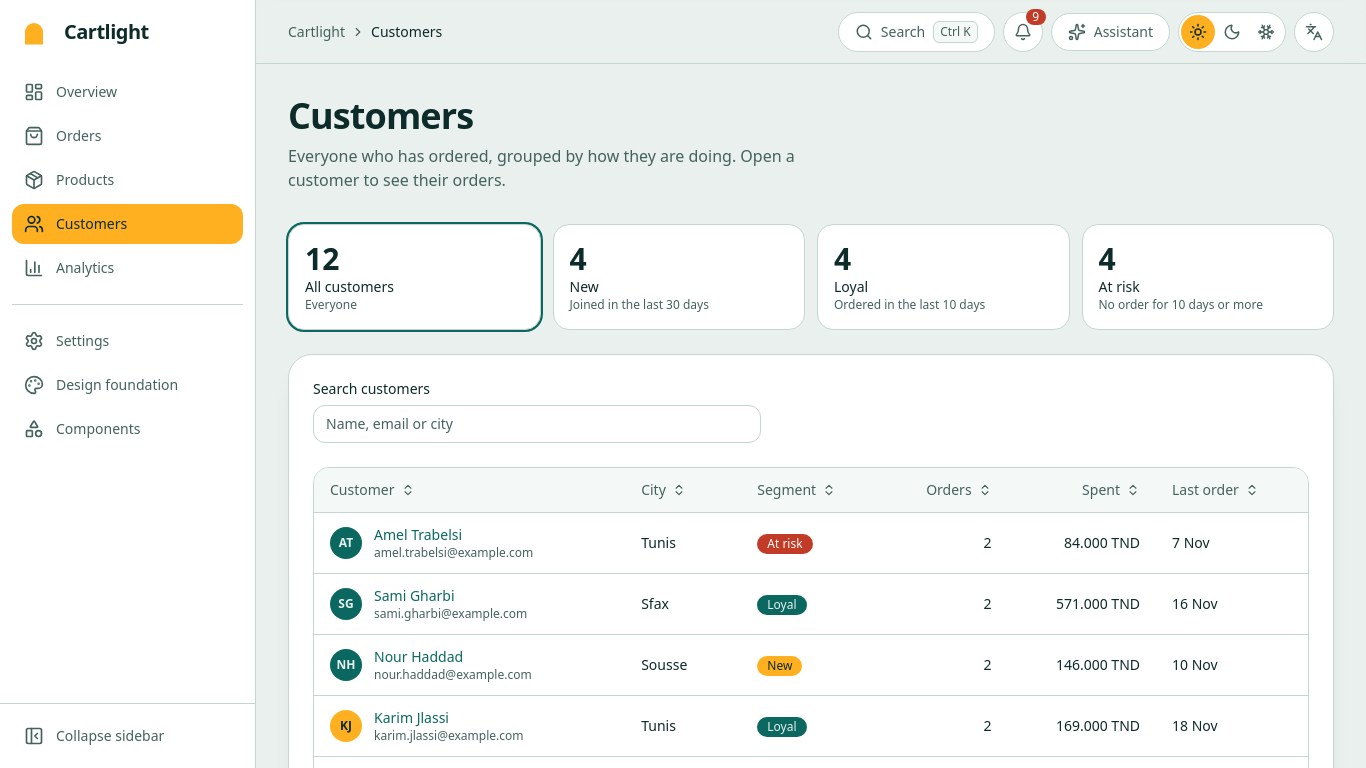
Test: customers page › searches and shows a friendly message when nothing matches
Later steps or results of the test are not shown.
Step 1. Type "amel" into the search field labelled "Search customers" → (537, 424), box [313,405,761,443]
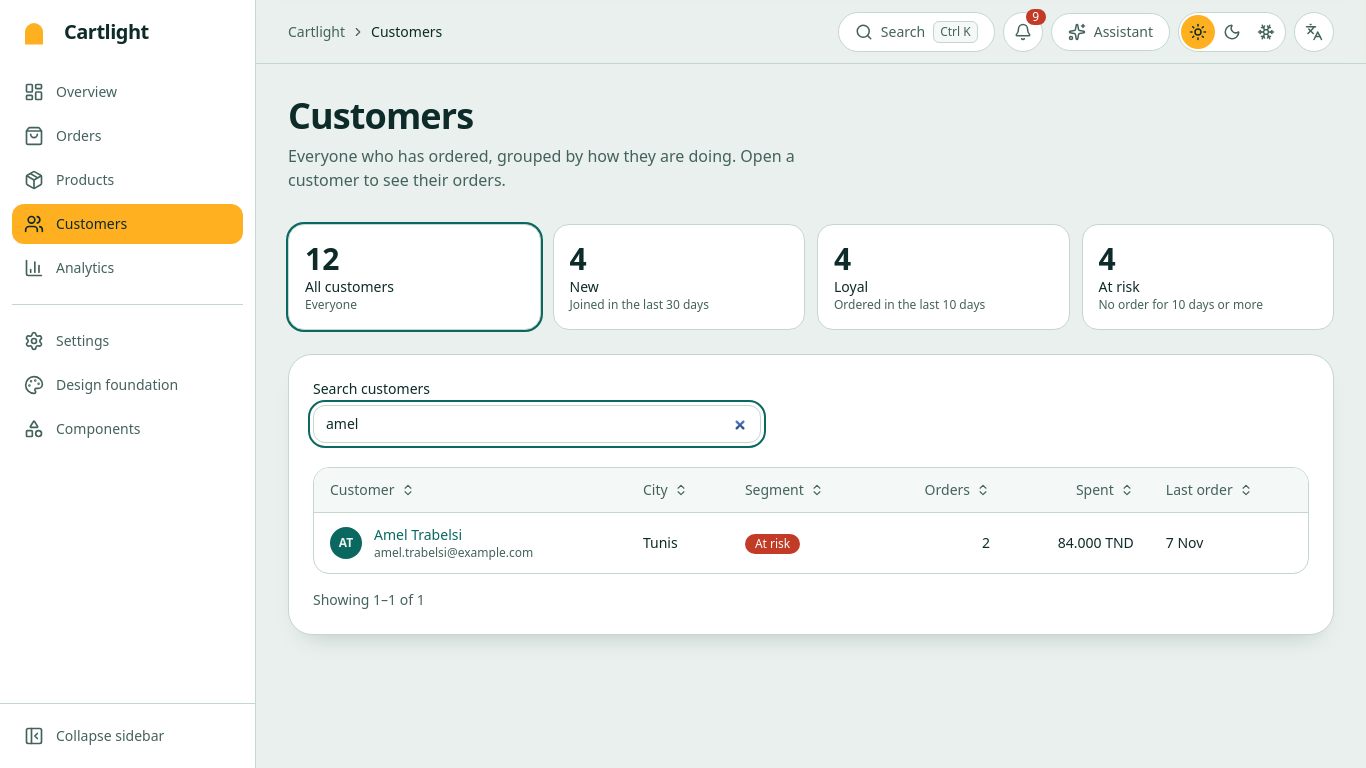
Step 2. Replace the text in the search field labelled "Search customers" with "zzzz" → (537, 424), box [313,405,761,443]
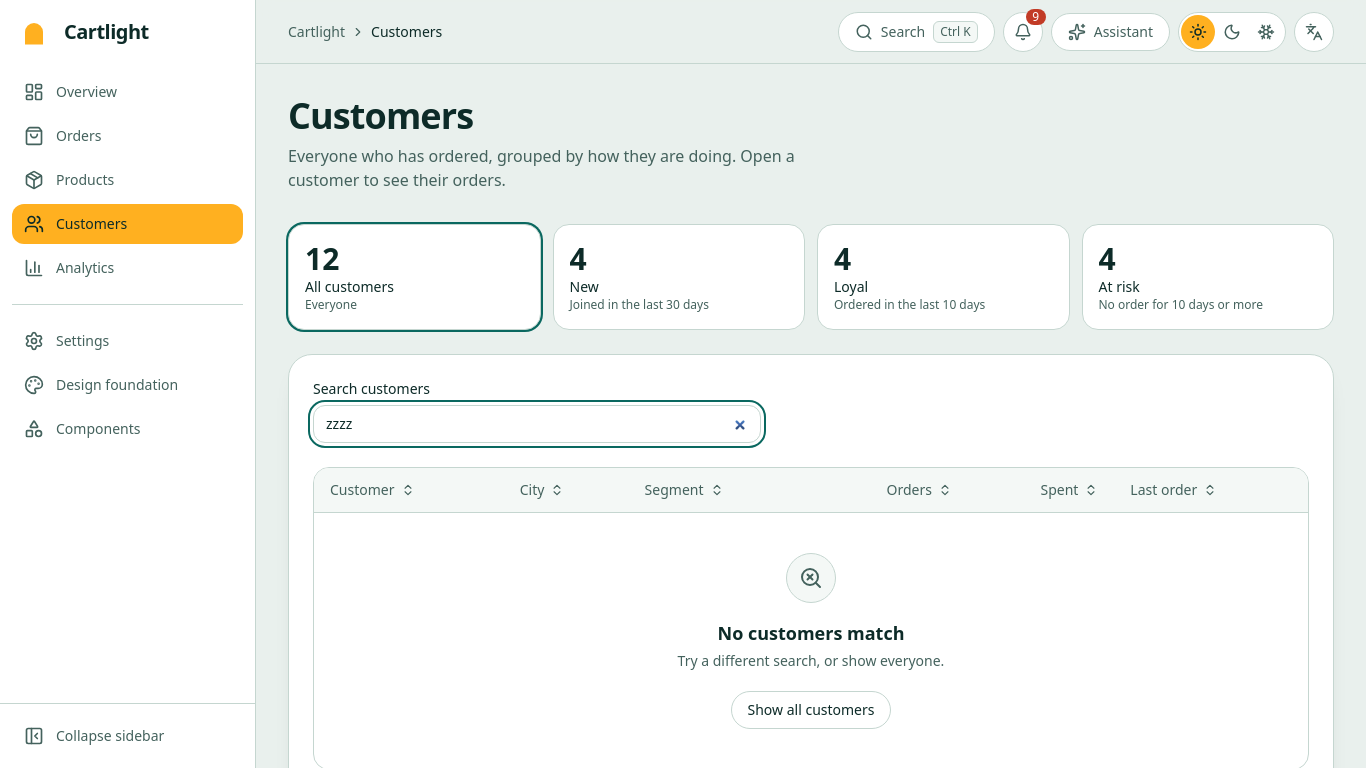
expect the heading "No customers match" is shown: met, box [718,619,904,647]
